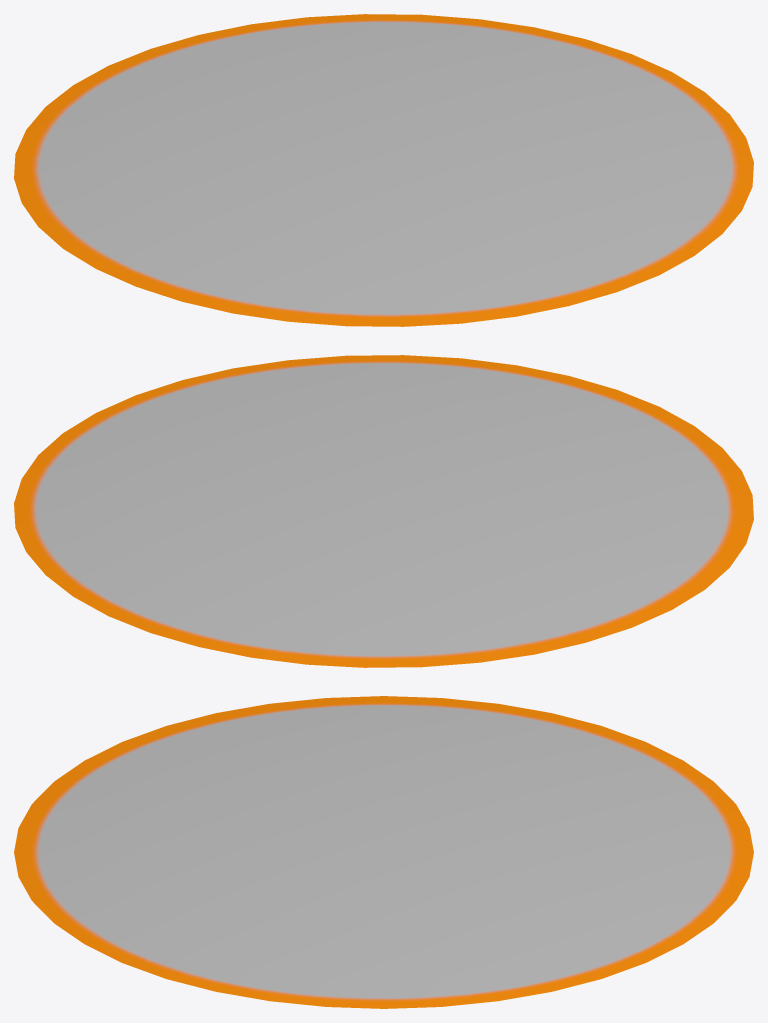
Rendered from BobbinApplyRange.gltf.
The picture shows the model from 3 angles, top to bottom: view 1: azimuth 30°, elevation 25°; view 2: azimuth 150°, elevation 25°; view 3: azimuth 270°, elevation 25°; orthographic projection.
Parts seen in each view (by area): view 1: BobbinApplyRange; view 2: BobbinApplyRange; view 3: BobbinApplyRange.
Boxes of the visible parts, bbox=[...] form: BobbinApplyRange: bbox=[14, 14, 753, 326]; BobbinApplyRange: bbox=[14, 355, 753, 667]; BobbinApplyRange: bbox=[14, 696, 753, 1008].
Bounding box in the file's own units: 5.81 × 0.1054 × 5.81.
Materials: 1 (1 with a texture image).
